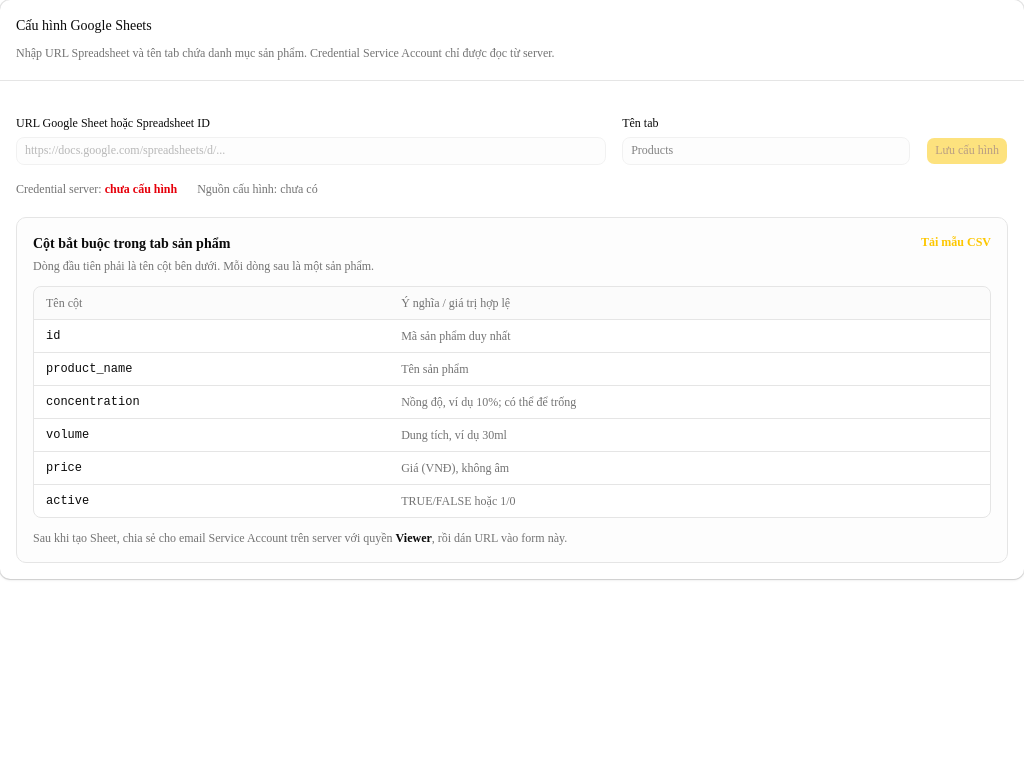
Test: GoogleSheetConfig › shows a deployment error instead of exposing a JSON parser error when the API returns HTML
Type "Catalog" into the field labelled "Tên tab" at x=766, y=150, box [622,136,910,164]
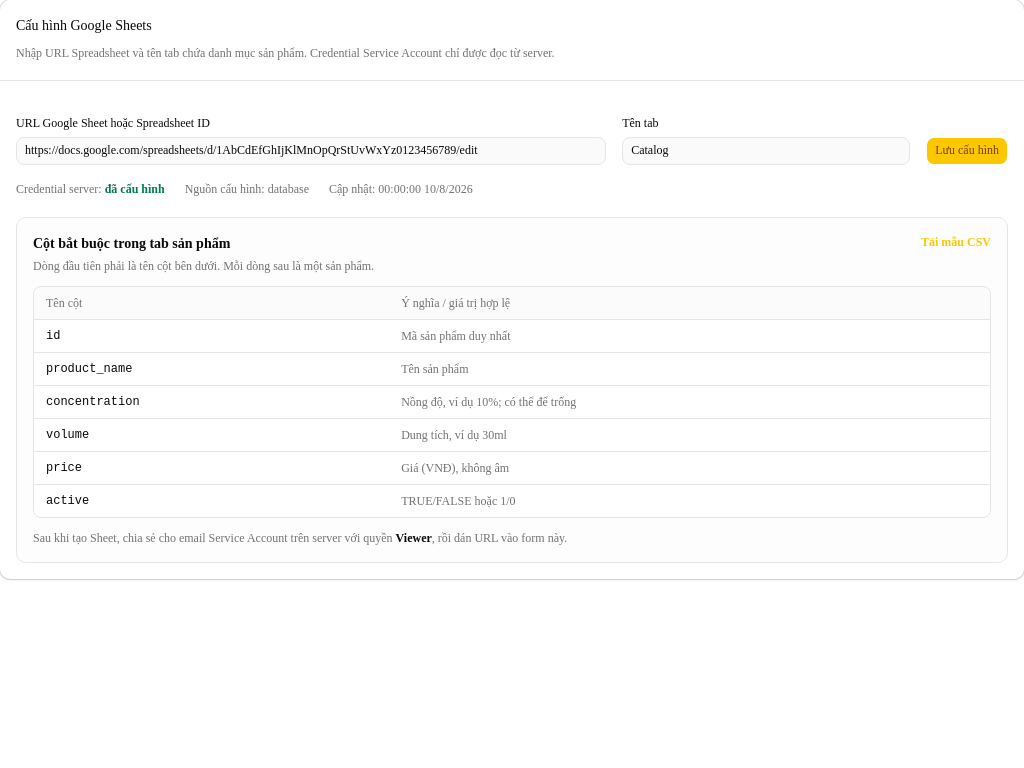
Click the button "Lưu cấu hình" at x=967, y=150, box [926,136,1008,164]
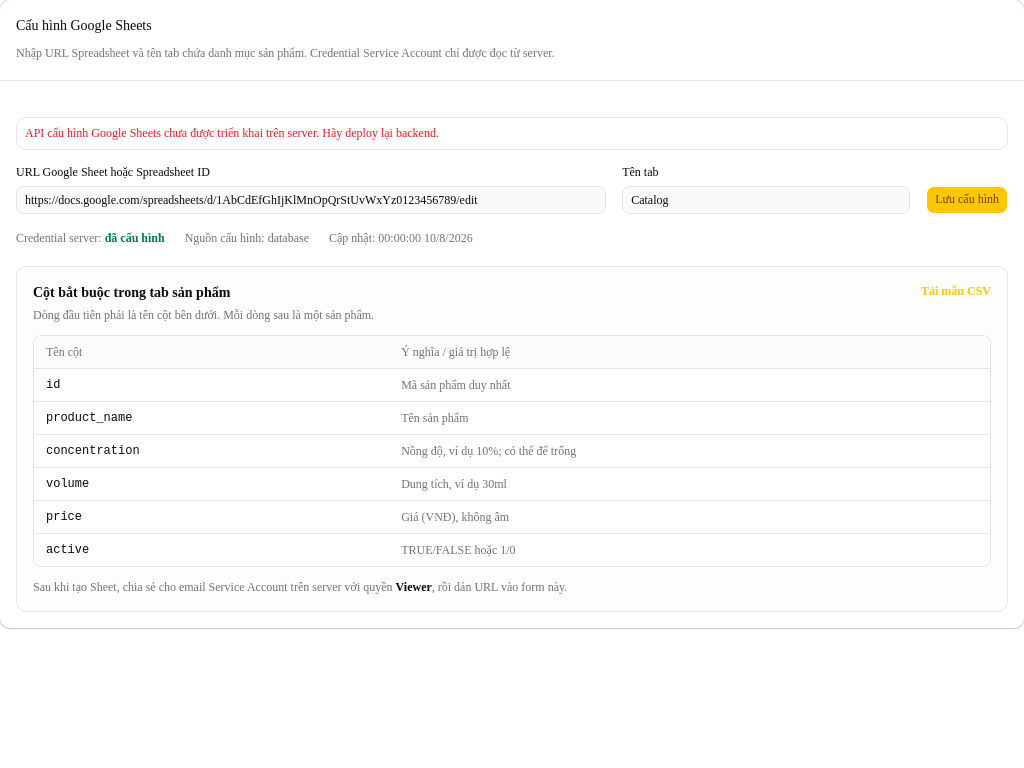
Now the text "API cấu hình Google Sheets chưa được triển khai trên server. Hãy deploy lại backend." is shown, box [25,126,439,140]
